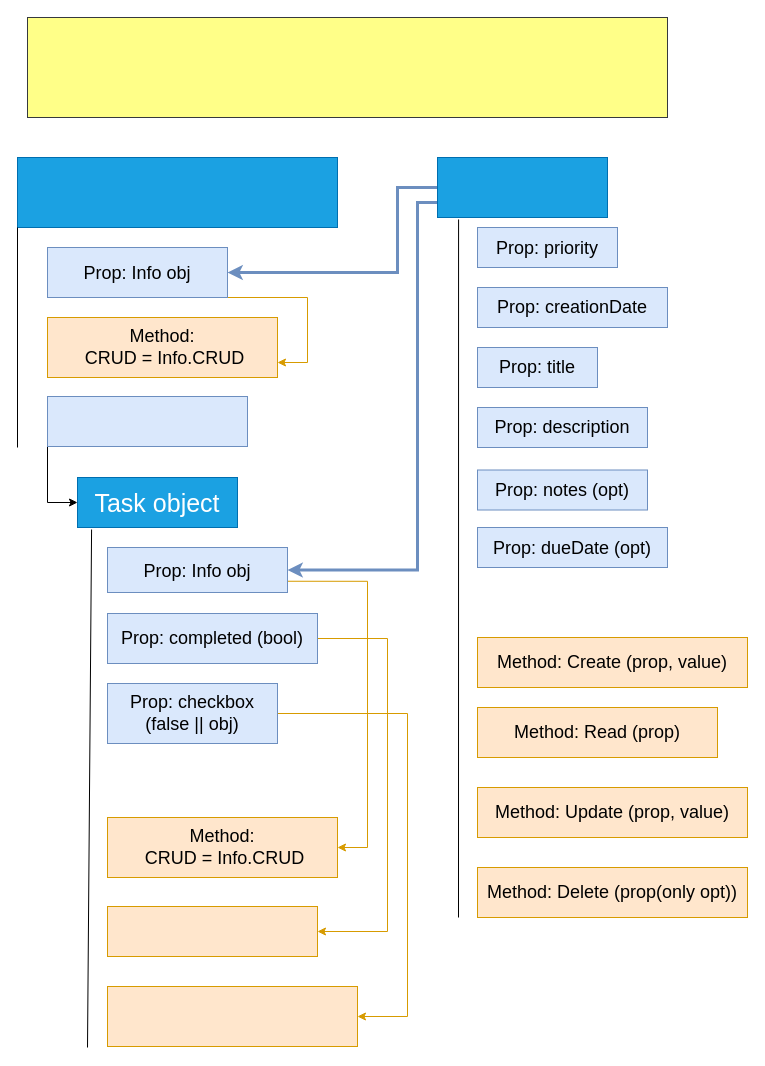
Image size: 765x1066. Some labels were removed from this diagram. The centre of each missing label's shape, as x and y in pixels:
"Application Logic" goes at (347,67).
"Info object" goes at (522,187).
"Method: update checkbox" goes at (232,1016).
"Method: update completed" goes at (212,931).
"Prop: tasks" goes at (147,421).
"Taskgroup object" goes at (177,192).
